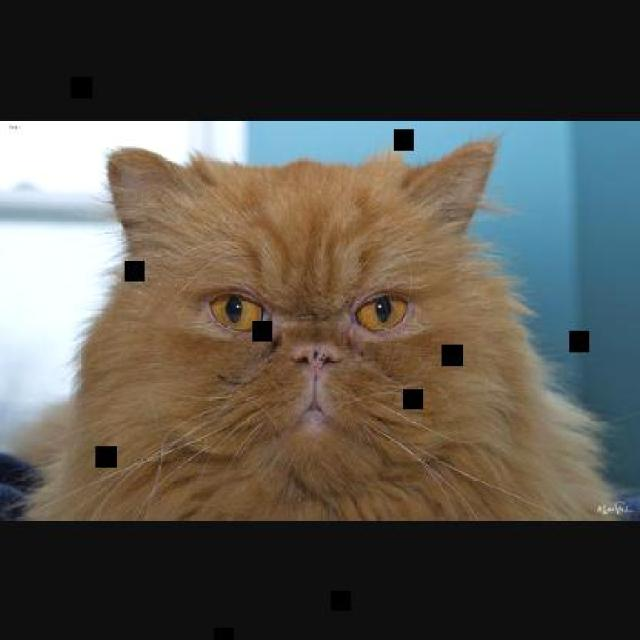unauthorized: (11, 132, 626, 520)
